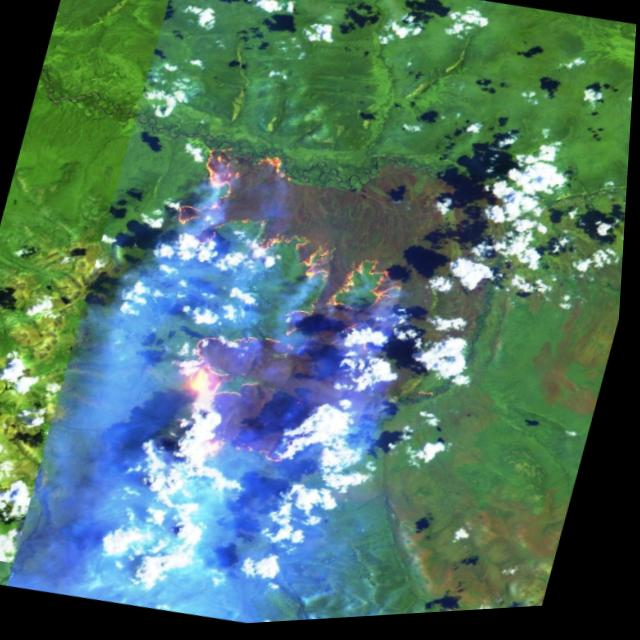fire: (106, 125, 504, 524)
